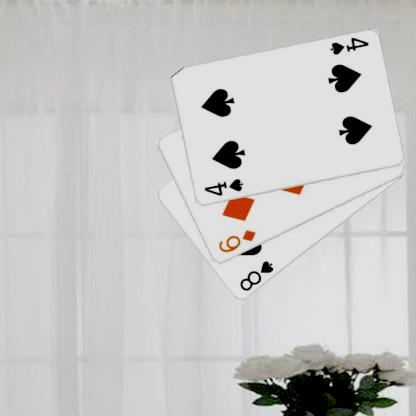4S: (201, 176, 244, 198), (327, 35, 370, 56)
6D: (215, 227, 257, 255)
8S: (237, 258, 275, 294)
